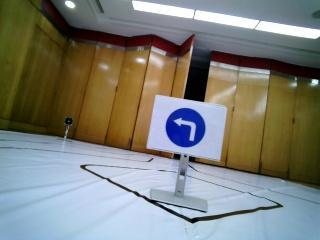left: (160, 100, 219, 156)
